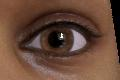eye: (41, 27, 74, 53)
